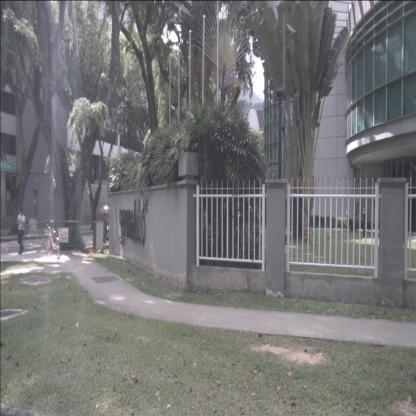human-pedestrian-adult: (100, 205, 110, 245), (17, 207, 25, 256)
vehicle-bicycle: (44, 219, 61, 259)
